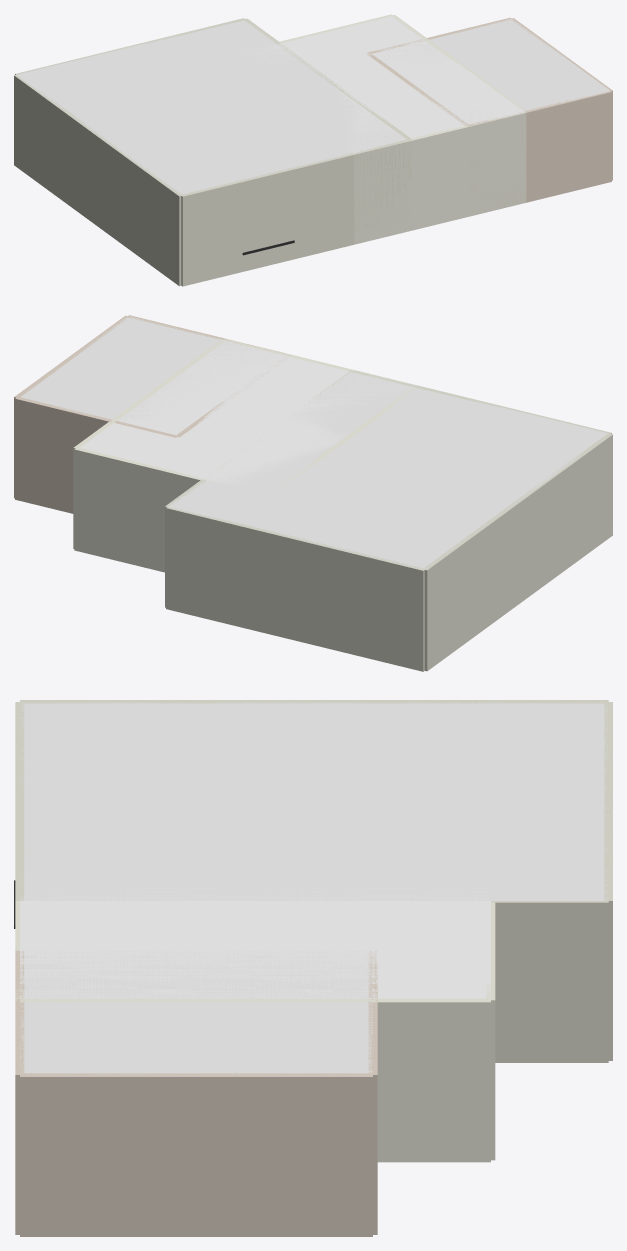
File: advanced_realistic_home_1751801486413.obj
The picture shows the model from 3 angles, top to bottom: view 1: azimuth 30°, elevation 25°; view 2: azimuth 150°, elevation 25°; view 3: azimuth 270°, elevation 25°; orthographic projection. The views are drawn at different scales.
Visible parts, largest first — view 1: Living_Room_ceiling, Living_Room_wall_front, Kitchen_ceiling, Kitchen_wall_front, Living_Room_wall_left, Bedroom_ceiling, Bedroom_wall_front, Living_Room_wall_right, Living_Room_wall_back, Kitchen_wall_right, Bedroom_wall_left, Bedroom_wall_right (+1 smaller); view 2: Living_Room_ceiling, Living_Room_wall_back, Kitchen_ceiling, Living_Room_wall_left, Bedroom_ceiling, Kitchen_wall_back, Bedroom_wall_back, Kitchen_wall_right, Bedroom_wall_right, Living_Room_wall_front, Kitchen_wall_left, Kitchen_wall_front; view 3: Living_Room_ceiling, Bedroom_wall_right, Kitchen_ceiling, Bedroom_ceiling, Kitchen_wall_right, Living_Room_wall_right, Living_Room_wall_back, Living_Room_wall_left, Bedroom_wall_front, Living_Room_wall_front, Bedroom_wall_back, Kitchen_wall_back.
Boxes of the visible parts, bbox=[...] form: Living_Room_ceiling: bbox=[16, 20, 406, 195]; Living_Room_wall_front: bbox=[181, 139, 411, 286]; Kitchen_ceiling: bbox=[228, 15, 524, 153]; Kitchen_wall_front: bbox=[354, 112, 526, 244]; Living_Room_wall_left: bbox=[14, 75, 181, 286]; Bedroom_ceiling: bbox=[374, 19, 610, 124]; Bedroom_wall_front: bbox=[467, 91, 611, 213]; Living_Room_wall_right: bbox=[244, 18, 412, 140]; Living_Room_wall_back: bbox=[15, 18, 245, 74]; Kitchen_wall_right: bbox=[392, 14, 526, 111]; Bedroom_wall_left: bbox=[367, 53, 468, 126]; Bedroom_wall_right: bbox=[510, 18, 612, 180]; Living_Room_ceiling: bbox=[168, 372, 607, 569]; Living_Room_wall_back: bbox=[166, 507, 425, 671]; Kitchen_ceiling: bbox=[80, 341, 411, 487]; Living_Room_wall_left: bbox=[423, 433, 612, 671]; Bedroom_ceiling: bbox=[20, 316, 283, 422]; Kitchen_wall_back: bbox=[74, 447, 245, 572]; Bedroom_wall_back: bbox=[15, 397, 176, 513]; Kitchen_wall_right: bbox=[73, 339, 224, 548]; Bedroom_wall_right: bbox=[14, 315, 128, 498]; Living_Room_wall_front: bbox=[352, 370, 611, 433]; Kitchen_wall_left: bbox=[272, 387, 415, 495]; Kitchen_wall_front: bbox=[223, 339, 417, 386]; Living_Room_ceiling: bbox=[20, 702, 608, 900]; Bedroom_wall_right: bbox=[20, 1073, 372, 1236]; Kitchen_ceiling: bbox=[20, 864, 490, 1000]; Bedroom_ceiling: bbox=[20, 950, 372, 1074]; Kitchen_wall_right: bbox=[20, 998, 490, 1162]; Living_Room_wall_right: bbox=[491, 901, 608, 1062]; Living_Room_wall_back: bbox=[604, 702, 612, 1060]; Living_Room_wall_left: bbox=[20, 700, 608, 703]; Bedroom_wall_front: bbox=[15, 950, 24, 1234]; Living_Room_wall_front: bbox=[15, 702, 24, 900]; Bedroom_wall_back: bbox=[368, 951, 377, 1234]; Kitchen_wall_back: bbox=[486, 901, 495, 1160].
Size of the model in its own units: 15.15 by 3 by 10.17.
